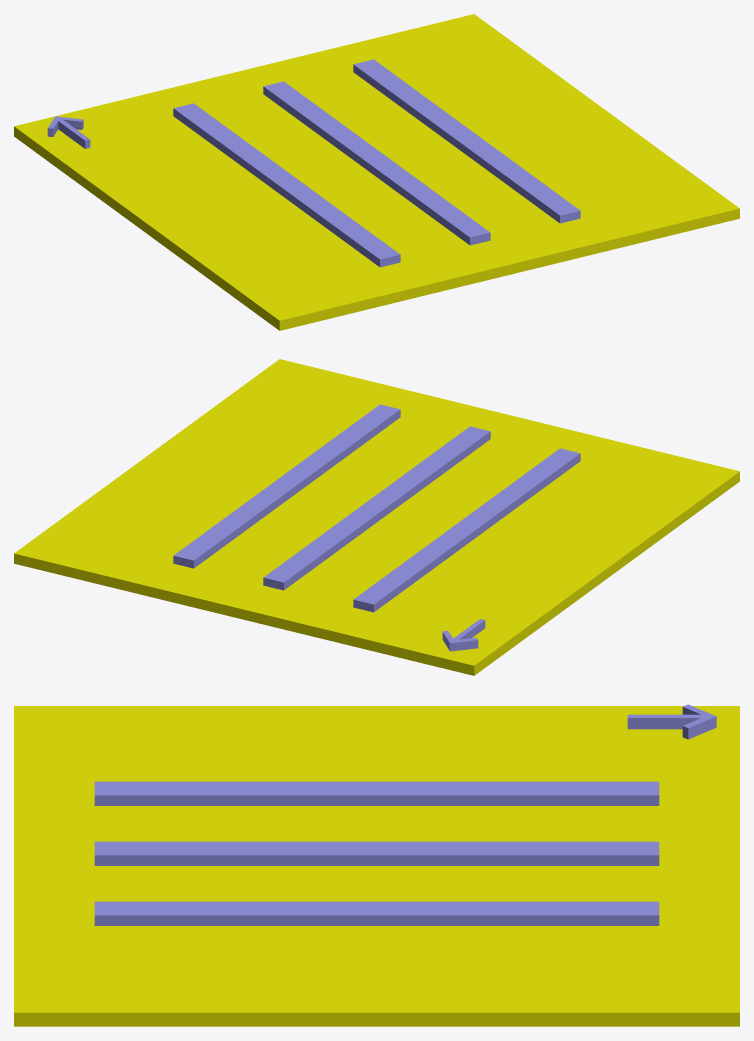
The model's file is mark_3.fbx.
The picture shows the model from 3 angles, top to bottom: view 1: azimuth 30°, elevation 25°; view 2: azimuth 150°, elevation 25°; view 3: azimuth 270°, elevation 25°; orthographic projection. The views are drawn at different scales.
Parts seen in each view (by area): view 1: pCube3, pCube4, pCube9, pCube8; view 2: pCube3, pCube4, pCube9, pCube8; view 3: pCube3, pCube4, pCube8, pCube9, pCube7.
Boxes of the visible parts, box(x1,y1,x2,y2) form: pCube3: box(14, 14, 739, 330); pCube4: box(173, 103, 400, 267); pCube9: box(263, 81, 490, 245); pCube8: box(353, 59, 580, 223); pCube3: box(14, 359, 739, 675); pCube4: box(353, 448, 580, 612); pCube9: box(263, 426, 490, 590); pCube8: box(173, 404, 400, 568); pCube3: box(14, 706, 739, 1026); pCube4: box(94, 781, 659, 805); pCube8: box(94, 901, 659, 925); pCube9: box(94, 841, 659, 865); pCube7: box(627, 714, 704, 729).
Bounding box in the file's own units: 0.9 × 0.0345 × 0.9.
